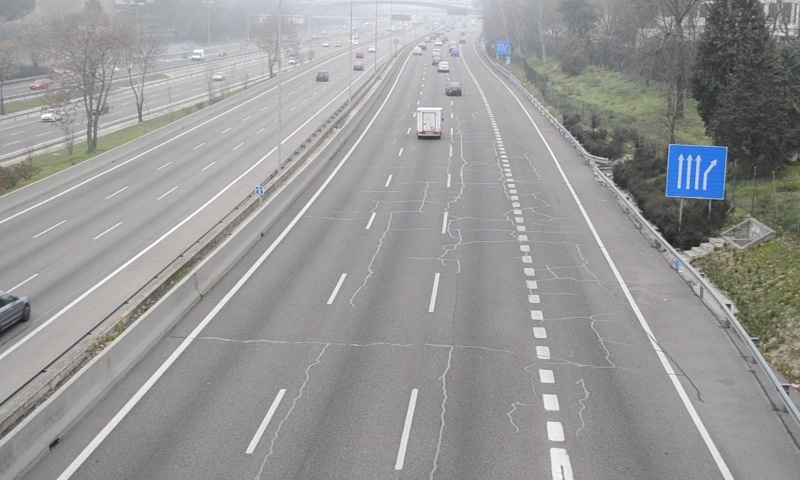car: (446, 80, 462, 96)
small-truck: (415, 107, 443, 136)
